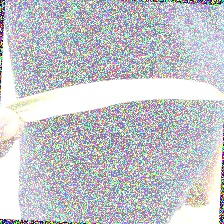Leaf_Blast: (34, 75, 224, 101)
